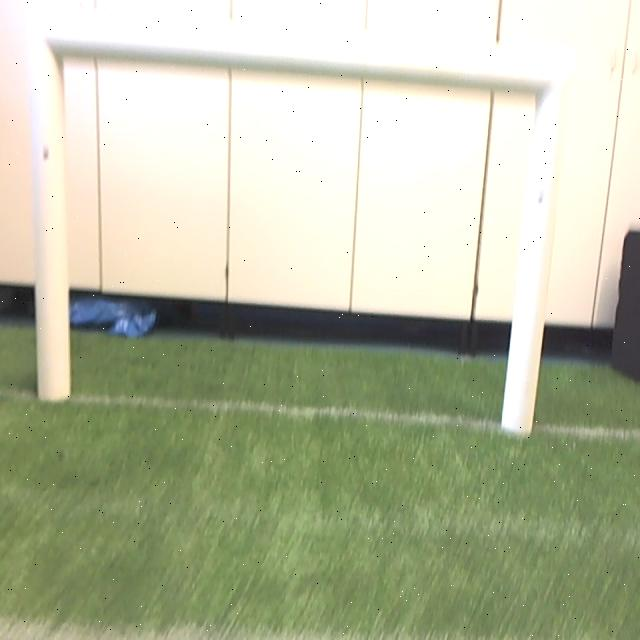goalpost: (502, 73, 571, 437), (28, 21, 71, 400)
